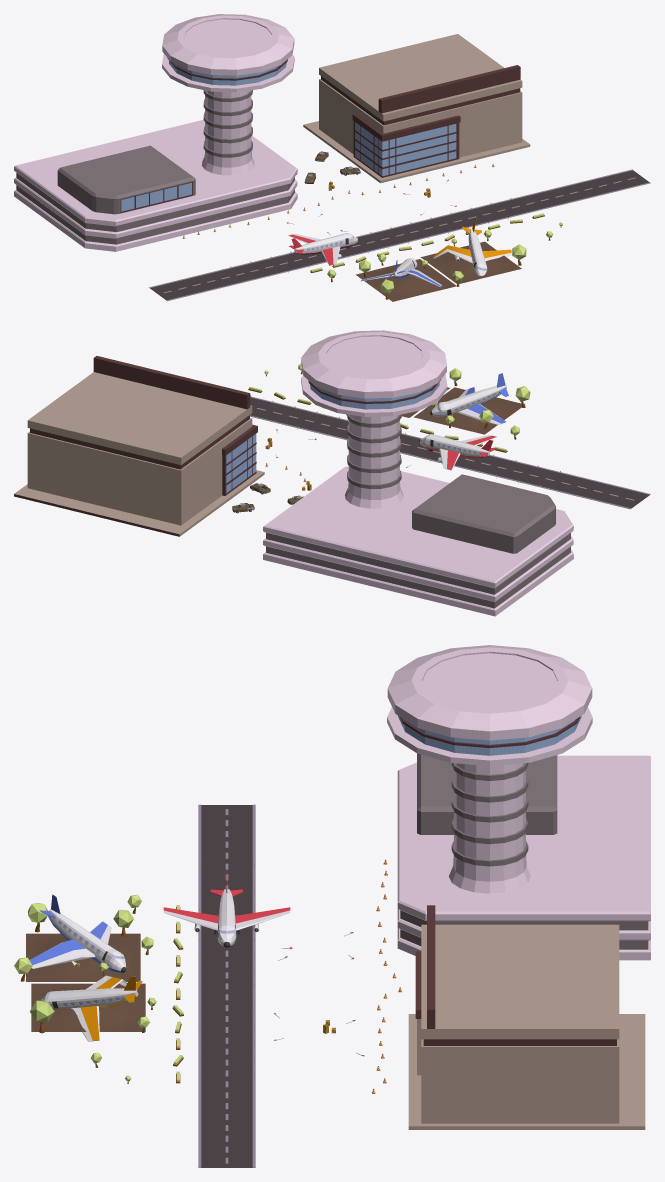
File: airport3.fbx
3 views of the same model, one above another, from view 1: azimuth 30°, elevation 25°; view 2: azimuth 150°, elevation 25°; view 3: azimuth 270°, elevation 25° (orthographic). The views are drawn at different scales.
Parts seen in each view (by area): view 1: Building.001, Building2.001, Road, Plane.004, Plane.006, Plane.002, Plane, Plane.001, Cube.003, Strip; view 2: Building.001, Building2.001, Road, Plane.004, Plane.001, Plane; view 3: Building.001, Building2.001, Road, Plane.004, Plane.001, Plane.006, Plane.002, Plane.
Boxes of the visible parts, <box> form: Building.001: <box>14,14,297,251</box>; Building2.001: <box>303,34,530,183</box>; Road: <box>149,169,650,300</box>; Plane.004: <box>356,259,456,301</box>; Plane.006: <box>420,241,521,283</box>; Plane.002: <box>432,217,512,275</box>; Plane: <box>288,233,358,265</box>; Plane.001: <box>360,258,441,287</box>; Cube.003: <box>310,213,544,272</box>; Strip: <box>163,177,635,293</box>; Building.001: <box>263,330,573,616</box>; Building2.001: <box>14,356,264,536</box>; Road: <box>250,396,650,509</box>; Plane.004: <box>414,387,525,434</box>; Plane.001: <box>430,373,508,424</box>; Plane: <box>419,434,496,470</box>; Building.001: <box>387,645,650,960</box>; Building2.001: <box>408,905,645,1129</box>; Road: <box>198,804,255,1167</box>; Plane.004: <box>26,933,140,981</box>; Plane.001: <box>29,894,126,972</box>; Plane.006: <box>31,983,145,1031</box>; Plane.002: <box>40,975,142,1041</box>; Plane: <box>163,870,290,947</box>.
Bounding box in the file's own units: 245 × 77.03 × 179.
1 material, 1 textured.
